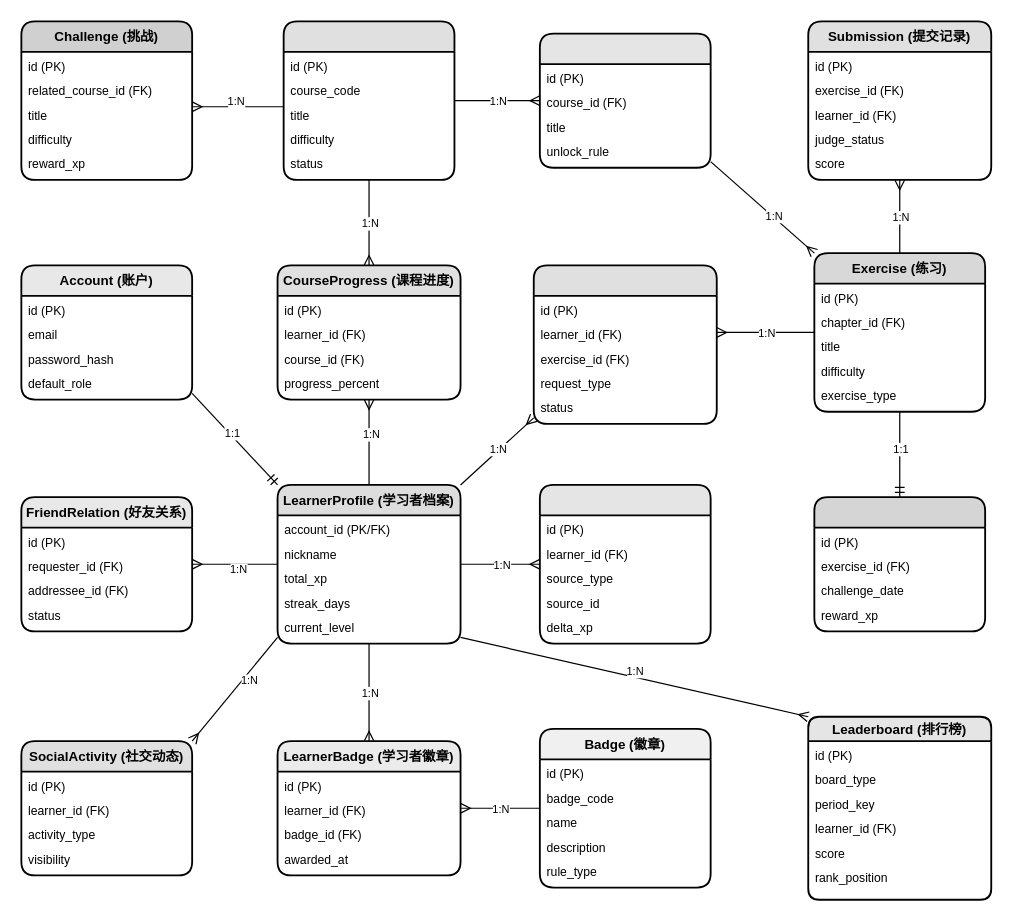
Image size: 1014x922. Some labels were removed from this diagram. The shapes that lost their labels are listed below. From the top down, each one's box as (x1, y1, x2, y2) in pixels, then its label:
(282, 20, 455, 180): Course (课程)
(538, 32, 711, 168): Chapter (章节)
(532, 264, 717, 424): AiHelpRequest (AI帮助请求)
(538, 483, 711, 644): XpLedger (经验值流水)
(813, 496, 986, 632): DailyChallenge (每日挑战)
